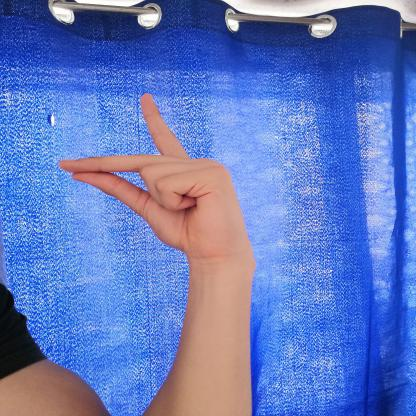TAA: (46, 84, 258, 265)
